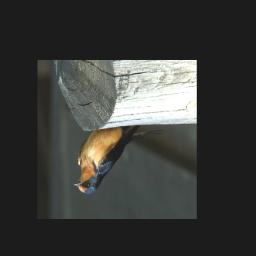Swallow: (73, 125, 165, 194)
